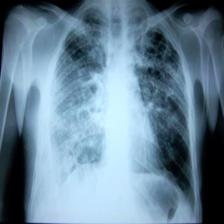tuberculosis: (36, 3, 199, 211)
